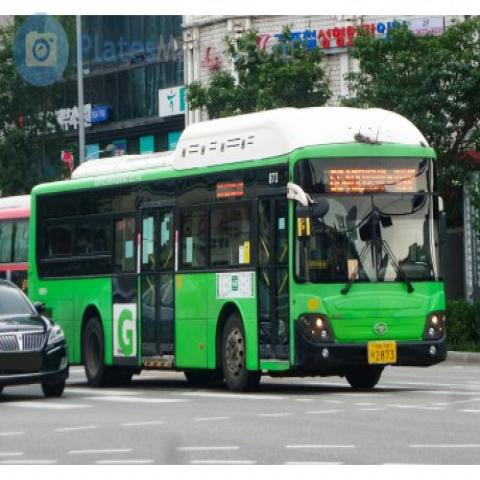LP: (359, 332, 410, 372)
